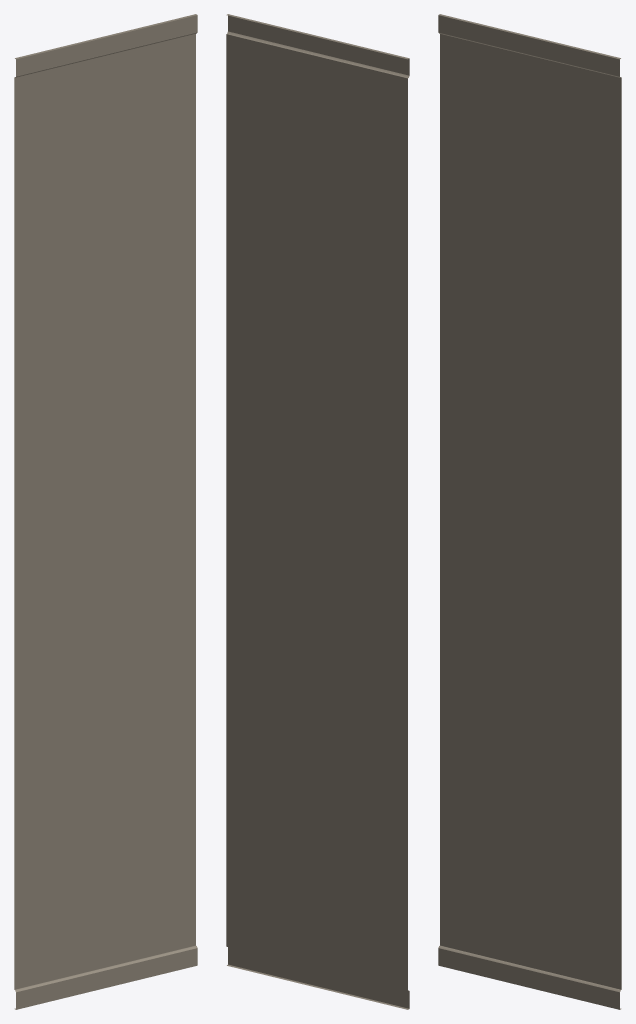
File: Wall_1x5_Plain.fbx
The picture shows the model from 3 angles, left to right: view 1: azimuth 30°, elevation 25°; view 2: azimuth 150°, elevation 25°; view 3: azimuth 330°, elevation 25°; orthographic projection.
Parts seen in each view (by area): view 1: Wall_1x5_Plain; view 2: Wall_1x5_Plain; view 3: Wall_1x5_Plain.
Part boxes in pixels (bbox=[...]): Wall_1x5_Plain: bbox=[14, 14, 197, 1009]; Wall_1x5_Plain: bbox=[226, 14, 409, 1009]; Wall_1x5_Plain: bbox=[438, 14, 621, 1009].
Size of the model in its own units: 1 by 5 by 0.015.
